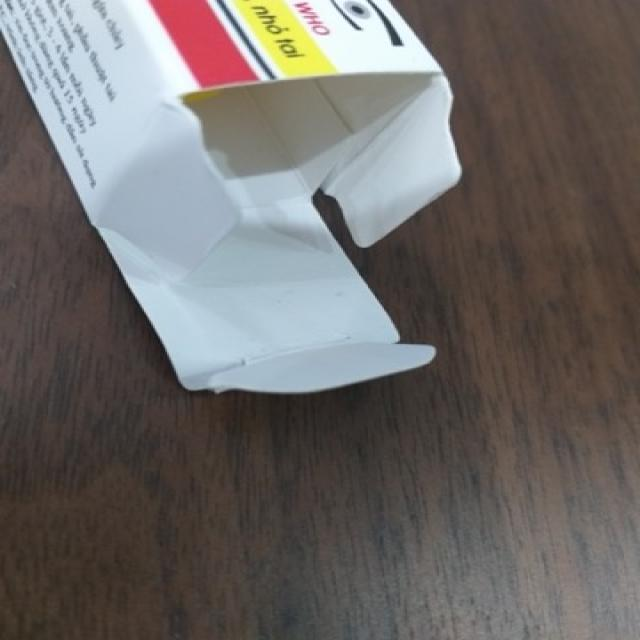PaperCardboard: (0, 3, 467, 405)
